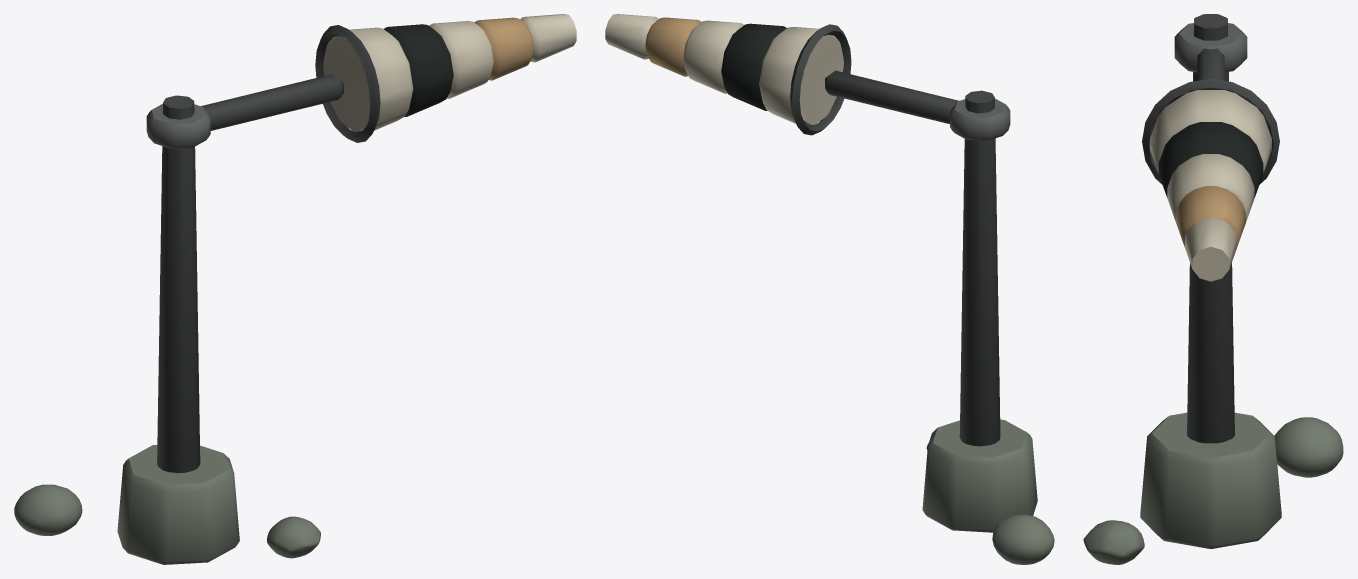
The model's file is windsock_a.glb.
3 views of the same model, side by side, from view 1: azimuth 30°, elevation 25°; view 2: azimuth 150°, elevation 25°; view 3: azimuth 270°, elevation 25° (orthographic). The views are drawn at different scales.
Visible parts, largest first — view 1: Surface; view 2: Surface; view 3: Surface.
Boxes of the visible parts, box(x1,y1,x2,y2) form: Surface: box(14, 14, 576, 564); Surface: box(605, 14, 1054, 564); Surface: box(1083, 14, 1343, 564).
Size of the model in its own units: 3.45 by 3.07 by 1.34.
